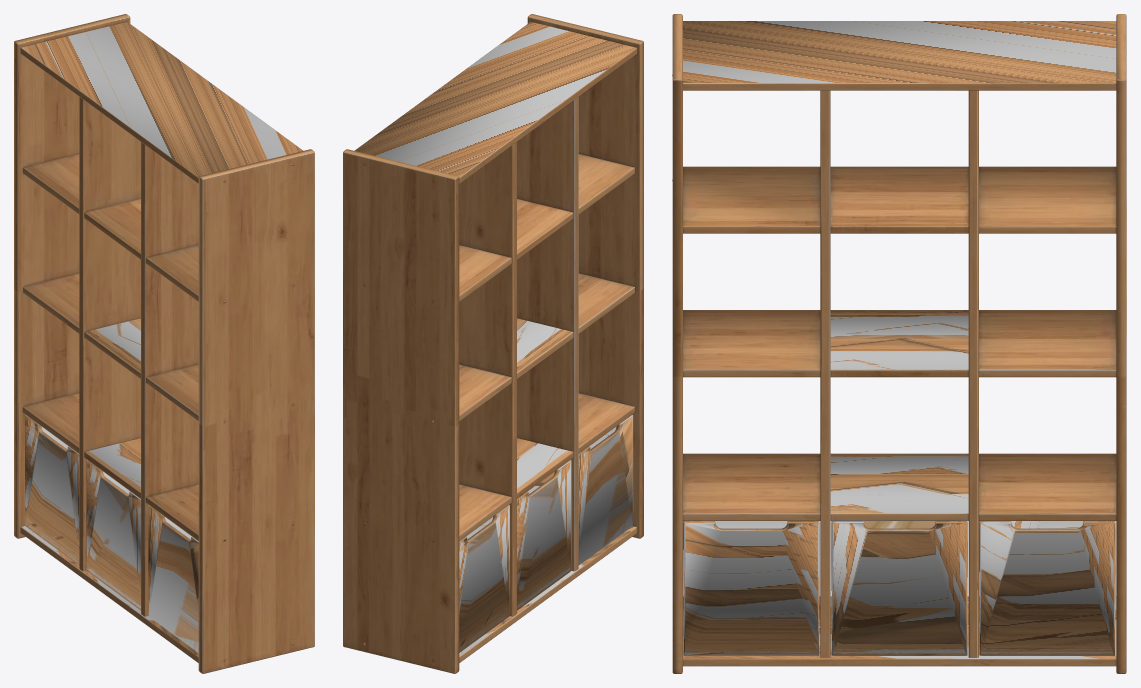
File: wooden_display_shelves_01.glb
3 views of the same model, side by side, from view 1: azimuth 30°, elevation 25°; view 2: azimuth 150°, elevation 25°; view 3: azimuth 270°, elevation 25° (orthographic). The views are drawn at different scales.
Parts seen in each view (by area): view 1: wooden_display_shelves_01, wooden_display_shelves_01_drawer_01, wooden_display_shelves_01_drawer_02, wooden_display_shelves_01_drawer_03; view 2: wooden_display_shelves_01, wooden_display_shelves_01_drawer_03, wooden_display_shelves_01_drawer_02, wooden_display_shelves_01_drawer_01; view 3: wooden_display_shelves_01, wooden_display_shelves_01_drawer_02, wooden_display_shelves_01_drawer_01, wooden_display_shelves_01_drawer_03.
Boxes of the visible parts, left/top/right/bottom form: wooden_display_shelves_01: left=14, top=14, right=314, bottom=673; wooden_display_shelves_01_drawer_01: left=25, top=415, right=79, bottom=565; wooden_display_shelves_01_drawer_02: left=86, top=460, right=140, bottom=610; wooden_display_shelves_01_drawer_03: left=148, top=505, right=198, bottom=652; wooden_display_shelves_01: left=343, top=14, right=643, bottom=673; wooden_display_shelves_01_drawer_03: left=578, top=415, right=633, bottom=565; wooden_display_shelves_01_drawer_02: left=517, top=460, right=571, bottom=610; wooden_display_shelves_01_drawer_01: left=459, top=505, right=509, bottom=652; wooden_display_shelves_01: left=672, top=14, right=1126, bottom=673; wooden_display_shelves_01_drawer_02: left=831, top=521, right=967, bottom=655; wooden_display_shelves_01_drawer_01: left=979, top=521, right=1115, bottom=655; wooden_display_shelves_01_drawer_03: left=683, top=521, right=819, bottom=655.
Bounding box in the file's own units: 0.3703 × 1.56 × 1.08.
Materials: 1 (1 with a texture image).
